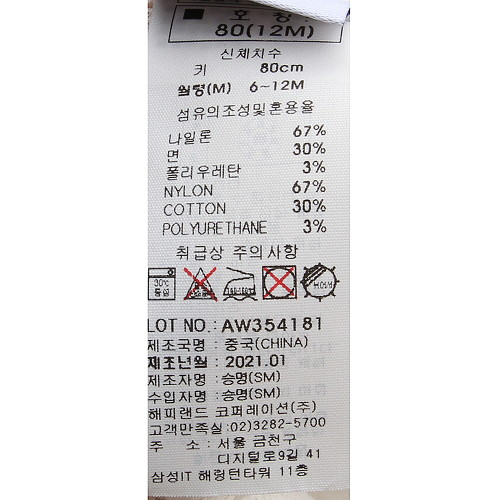KR_flat_dry_in_shade: (299, 258, 342, 303)
KR_iron_medium_temp_with_cloth: (217, 264, 260, 304)
KR_no_bleach: (180, 264, 220, 302)
KR_no_tumble_dry: (259, 263, 300, 303)
KR_wash_warm_30_neutral: (148, 264, 178, 303)
